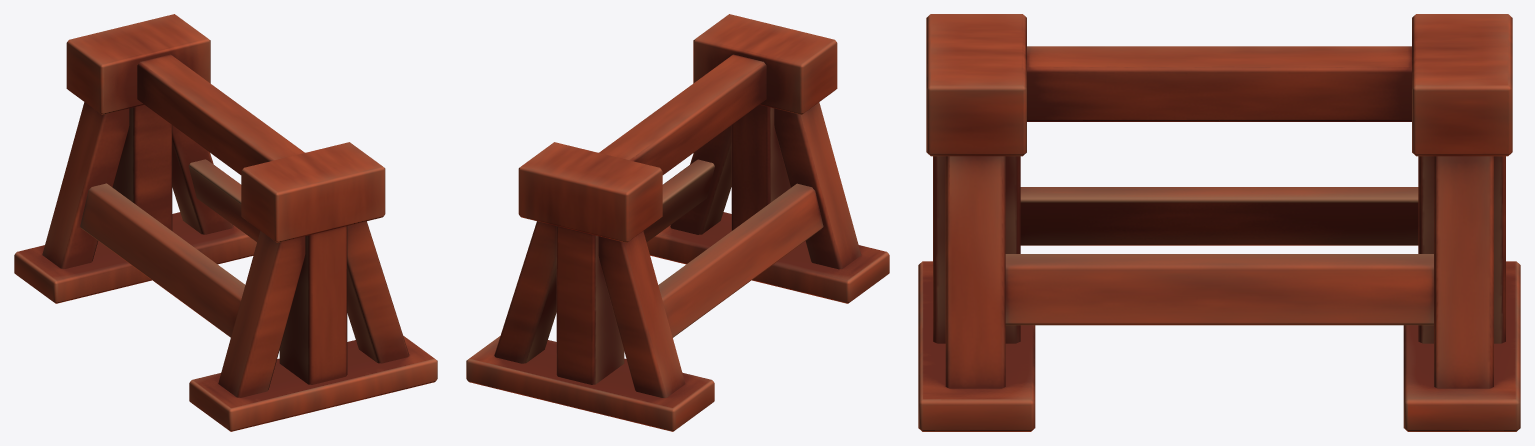
File: weapon_stand.fbx
3 views of the same model, side by side, from view 1: azimuth 30°, elevation 25°; view 2: azimuth 150°, elevation 25°; view 3: azimuth 270°, elevation 25° (orthographic). The views are drawn at different scales.
Parts seen in each view (by area): view 1: weapon_stand; view 2: weapon_stand; view 3: weapon_stand.
Boxes of the visible parts, x1,y1,x2,y2 form: weapon_stand: (14,14,437,431); weapon_stand: (466,14,889,431); weapon_stand: (918,14,1520,431).
Size of the model in its own units: 583 by 600 by 1046.
